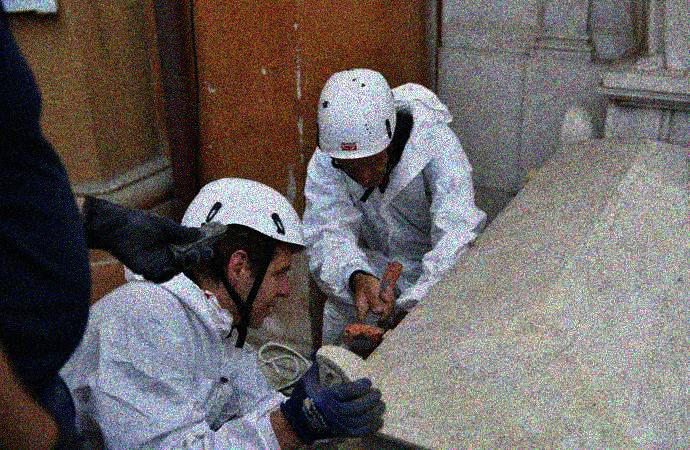helmet: (173, 176, 308, 330), (315, 66, 400, 186)
